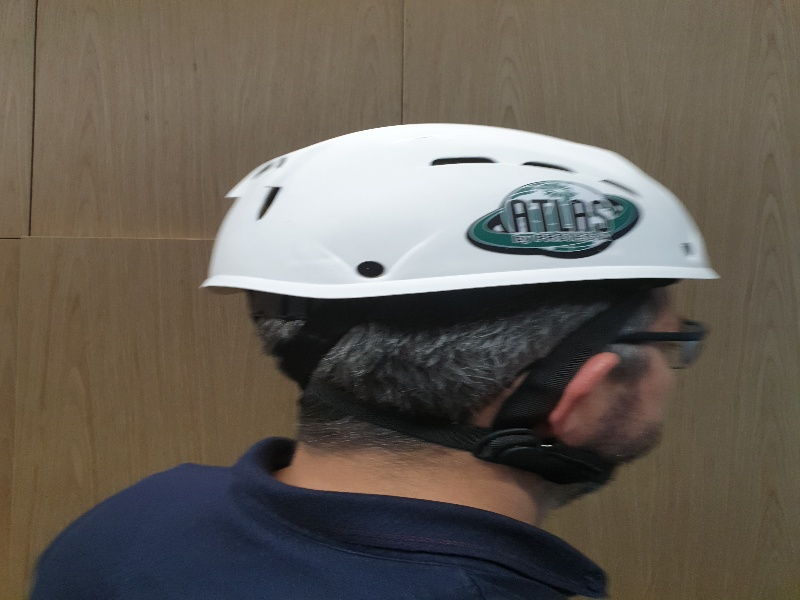Baret: (209, 124, 719, 290)
